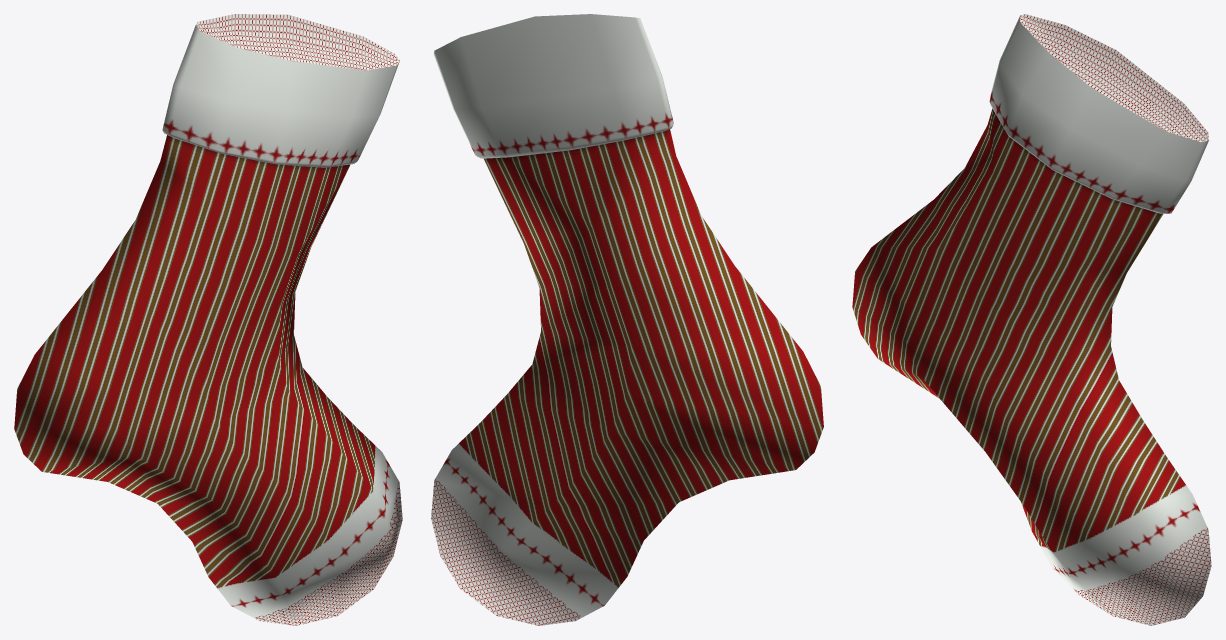
Rendered from socks-3.glb.
The picture shows the model from 3 angles, left to right: view 1: azimuth 30°, elevation 25°; view 2: azimuth 150°, elevation 25°; view 3: azimuth 330°, elevation 25°; orthographic projection. The views are drawn at different scales.
Visible parts, largest first — view 1: norvedem-sock; view 2: norvedem-sock; view 3: norvedem-sock.
Part boxes in pixels (x1,y1,x2,y2): norvedem-sock: [14, 14, 402, 625]; norvedem-sock: [431, 14, 823, 625]; norvedem-sock: [852, 14, 1211, 625].
Size of the model in its own units: 0.1716 by 0.2645 by 0.0366.
Materials: 1 (1 with a texture image).
